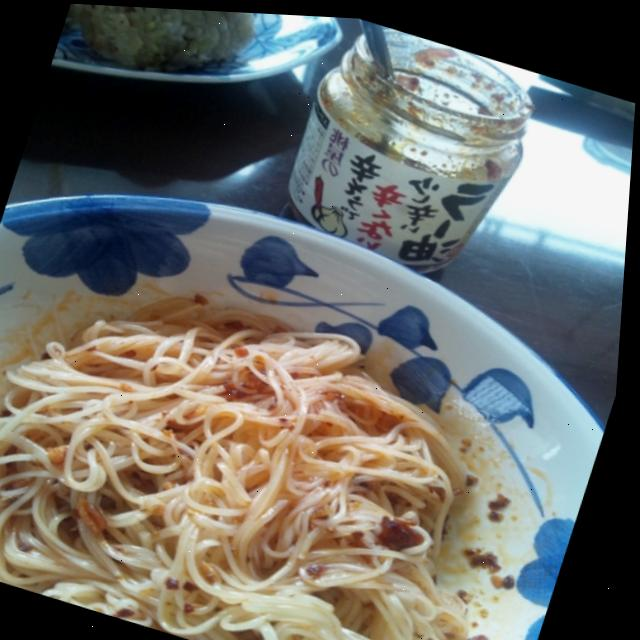面条主食: (0, 177, 561, 640)
